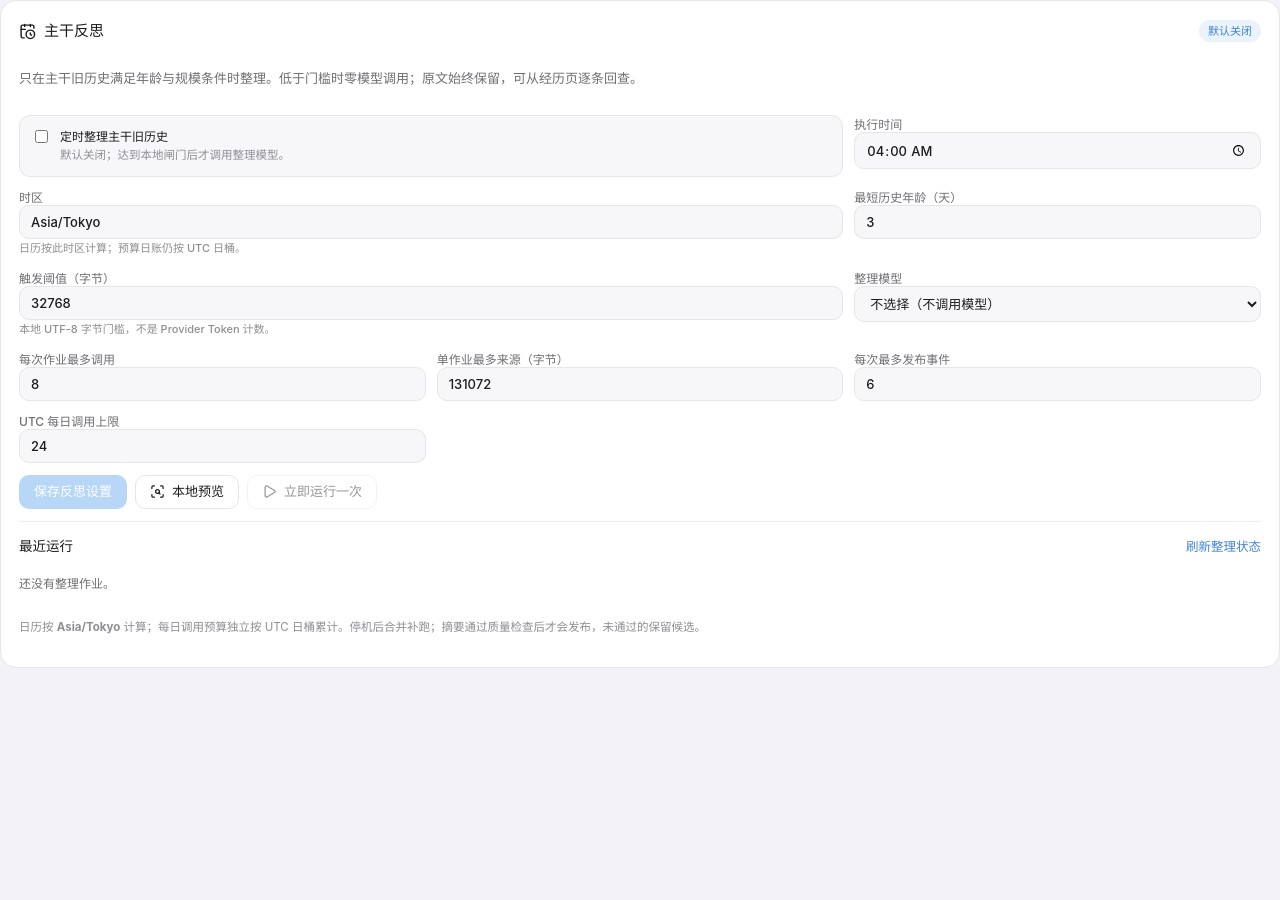
Test case: reflection persists time, timezone, age, byte gate, model and budgets with revision CAS before allowing a run
Click the checkbox labelled "定时整理主干旧历史 默认关闭；达到本地闸门后才调用整理模型。" at point(42, 136), box [35,130,48,143]
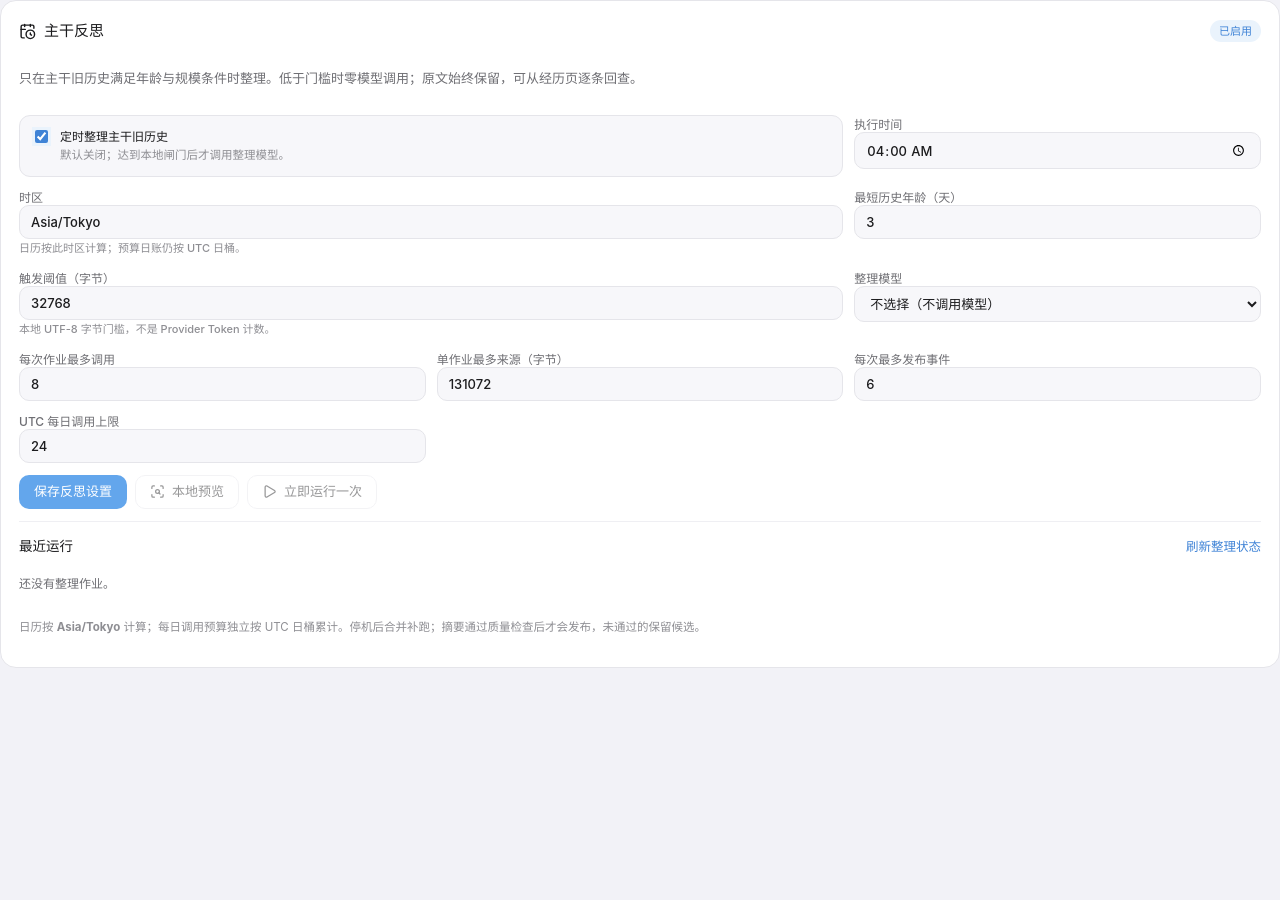
Select "整理连接" in the dropdown labelled "整理模型" at point(1058, 304), box [854,286,1261,322]
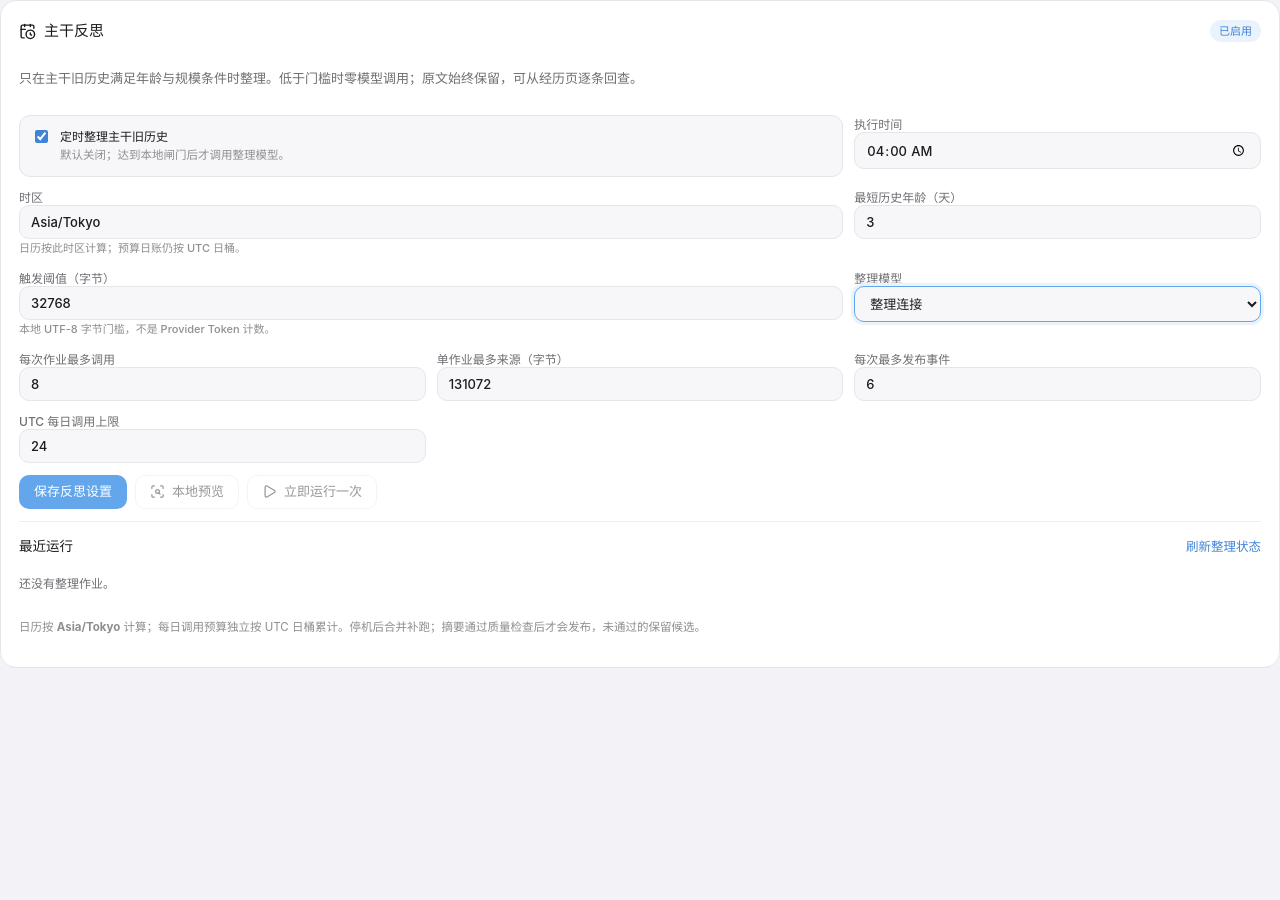
Replace the text in the time field labelled "执行时间" with "05:30" at point(1058, 151), box [854,132,1261,169]
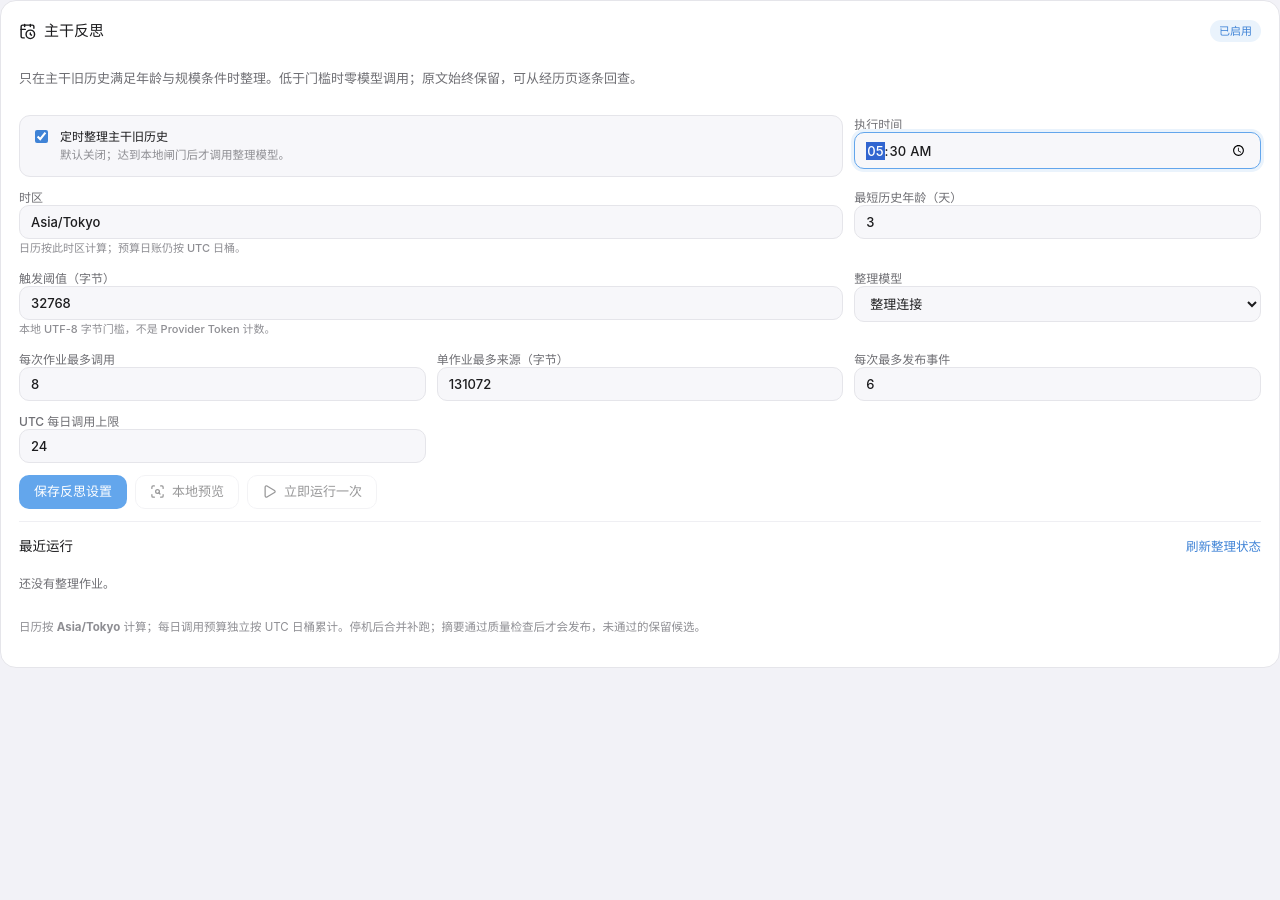
Type "Europe/Berlin" into the field labelled "时区 日历按此时区计算；预算日账仍按 UTC 日桶。" at point(431, 222), box [19,205,843,239]
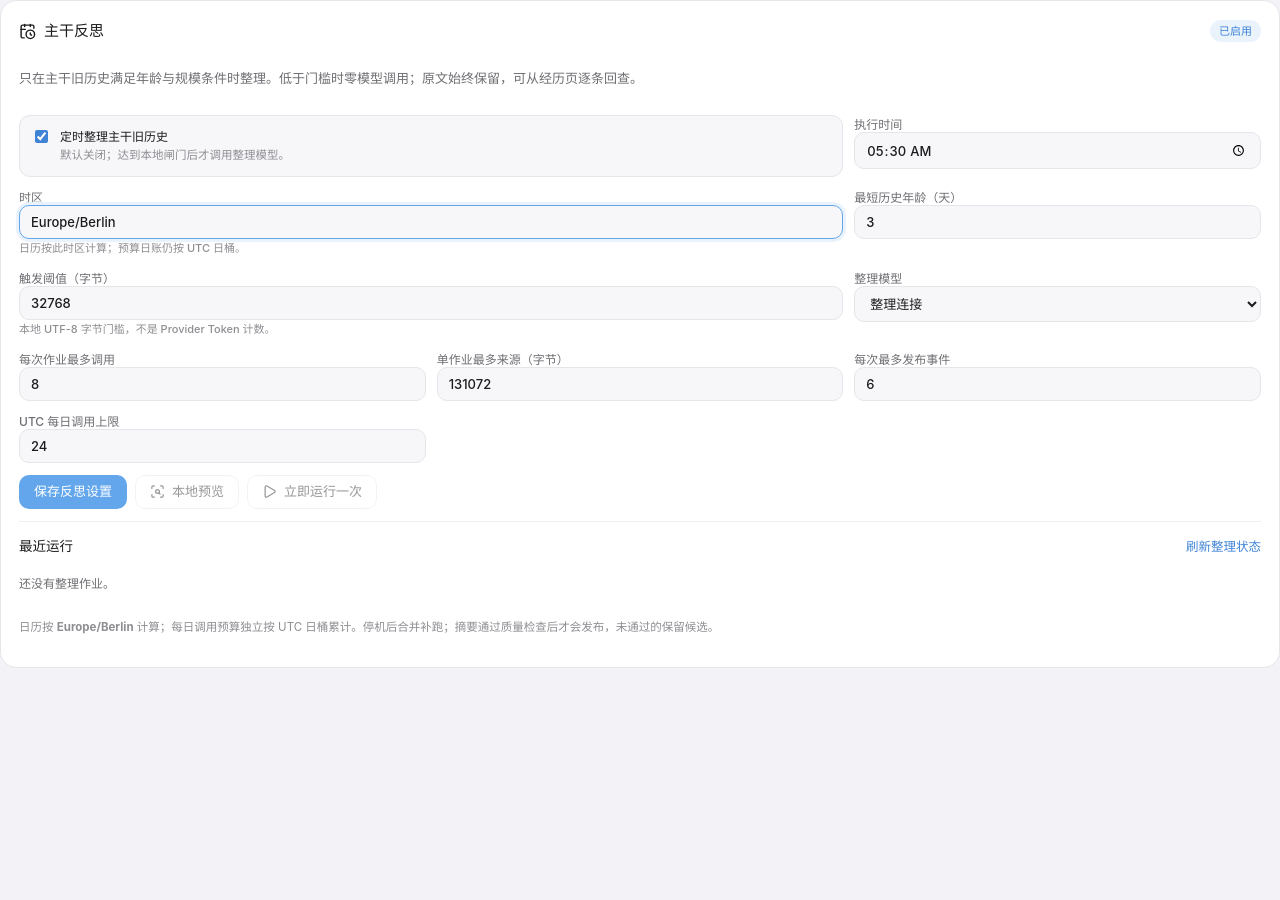
Expected: the button "立即运行一次" is disabled, [247,475,377,509]
Click the button "保存反思设置" at point(73, 492), box [19,475,127,509]
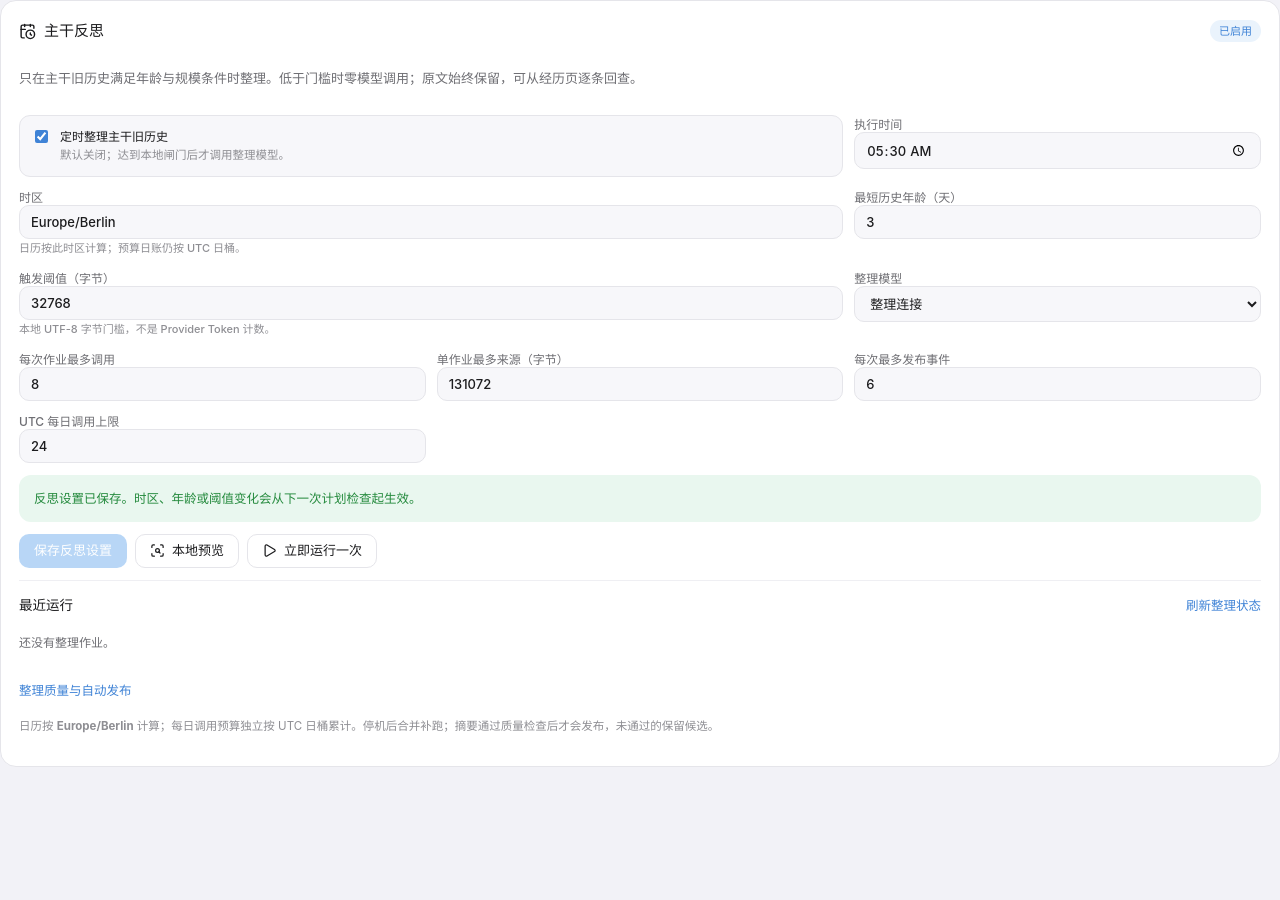
Expected: the text "反思设置已保存。时区、年龄或阈值变化会从下一次计划检查起生效。" is shown, [19,475,1261,522]
Expected: the button "立即运行一次" is enabled, [247,534,377,568]
